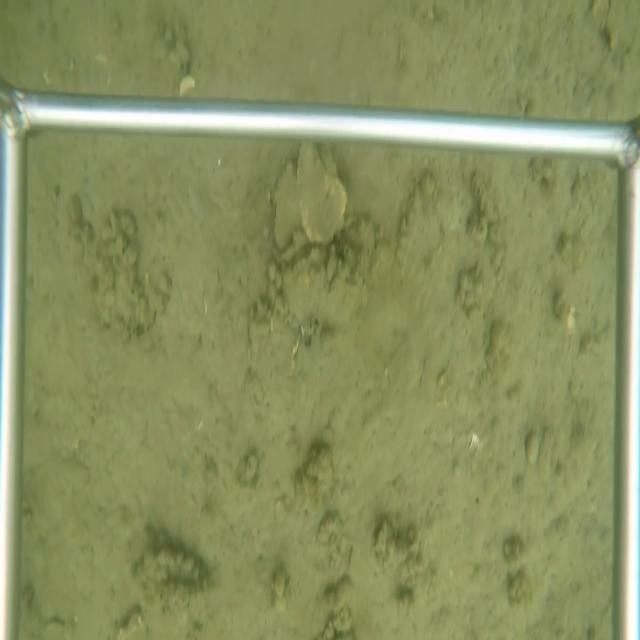Oyster-Closed: (270, 159, 304, 250)
Oyster-Indeterminate: (273, 243, 376, 339), (293, 141, 350, 249)
